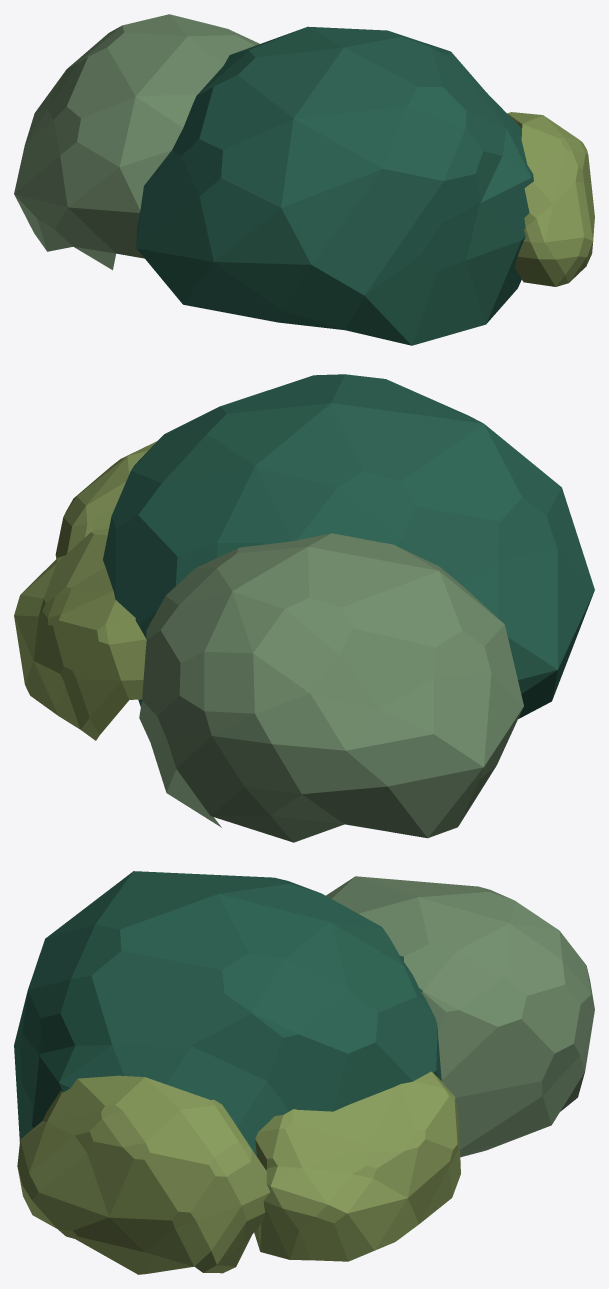
The model's file is lipa_mk1.fbx.
3 views of the same model, one above another, from view 1: azimuth 30°, elevation 25°; view 2: azimuth 150°, elevation 25°; view 3: azimuth 270°, elevation 25° (orthographic). The views are drawn at different scales.
Parts seen in each view (by area): view 1: Icosphere.076, Icosphere.074, Icosphere.075; view 2: Icosphere.074, Icosphere.076, Icosphere.077, Icosphere.075; view 3: Icosphere.076, Icosphere.074, Icosphere.075, Icosphere.077.
Boxes of the visible parts, <box> form: Icosphere.076: <box>136,26,533,345</box>; Icosphere.074: <box>14,14,259,270</box>; Icosphere.075: <box>507,112,594,286</box>; Icosphere.074: <box>139,533,523,842</box>; Icosphere.076: <box>103,374,594,718</box>; Icosphere.077: <box>14,529,146,740</box>; Icosphere.075: <box>55,441,157,558</box>; Icosphere.076: <box>14,871,441,1156</box>; Icosphere.074: <box>326,876,594,1157</box>; Icosphere.075: <box>17,1075,269,1274</box>; Icosphere.077: <box>254,1071,460,1261</box>.
Bounding box in the file's own units: 151 × 81.65 × 148.
